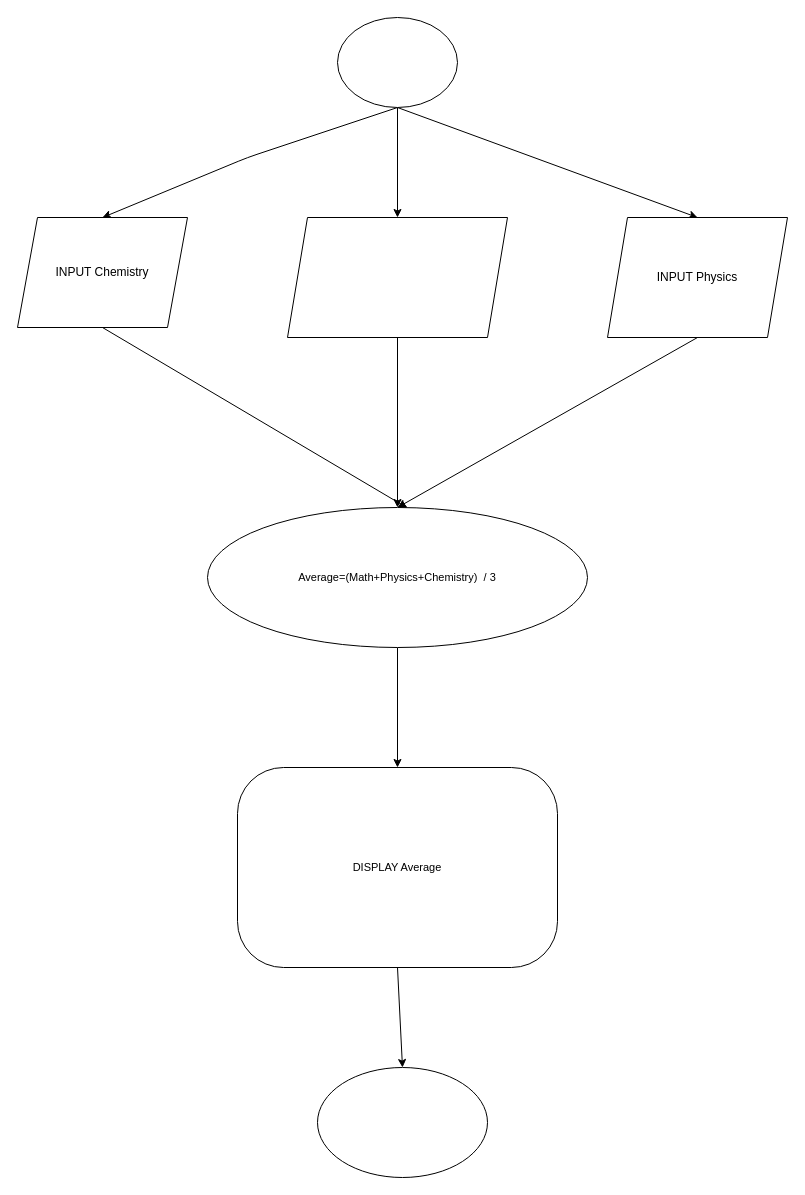
This 805x1195 diagram has some shape labels left out. The shapes that lost their labels are listed below. From the top down, each one's box as (x1, y1, x2, y2) in pixels, then its label:
(336, 16, 458, 108): BEGIN
(286, 216, 508, 338): INPUT Math
